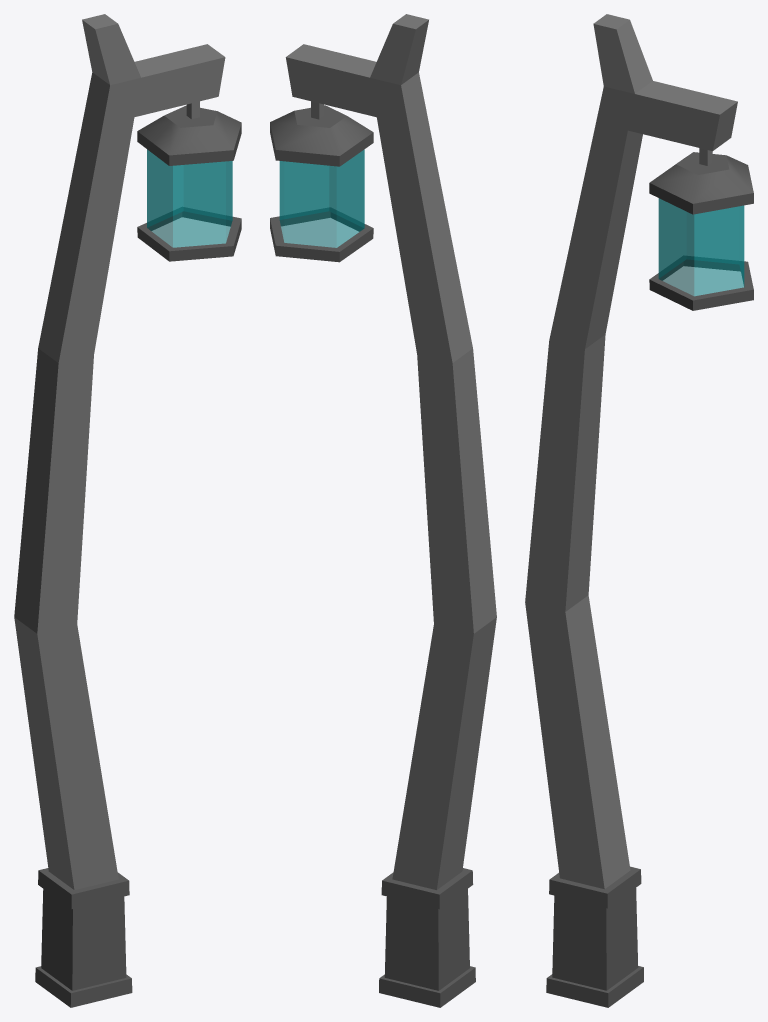
The model's file is Prop_LightPole_Mod_01.fbx.
The picture shows the model from 3 angles, left to right: view 1: azimuth 30°, elevation 25°; view 2: azimuth 150°, elevation 25°; view 3: azimuth 330°, elevation 25°; orthographic projection.
Parts seen in each view (by area): view 1: LightPole, Light; view 2: LightPole, Light; view 3: LightPole, Light.
Part boxes in pixels (box(x1,y1,x2,y2)): LightPole: box(14, 14, 225, 1007); Light: box(137, 105, 241, 261); LightPole: box(285, 14, 496, 1007); Light: box(270, 105, 373, 262); LightPole: box(525, 14, 737, 1007); Light: box(649, 152, 753, 310).
Size of the model in its own units: 1.11 by 4.74 by 0.4748.
